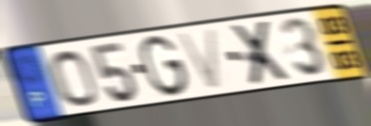3: (279, 15, 330, 80)
5: (86, 39, 138, 104)
G: (138, 33, 191, 99)
O: (47, 48, 101, 109)
V: (174, 25, 224, 93)
X: (230, 18, 294, 88)
